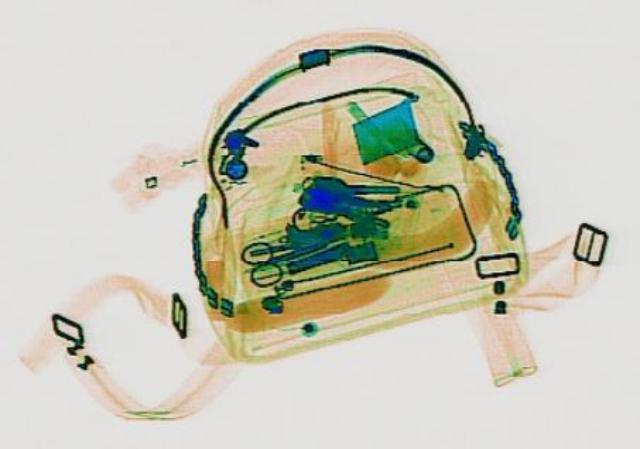Scissors: (229, 216, 363, 285)
